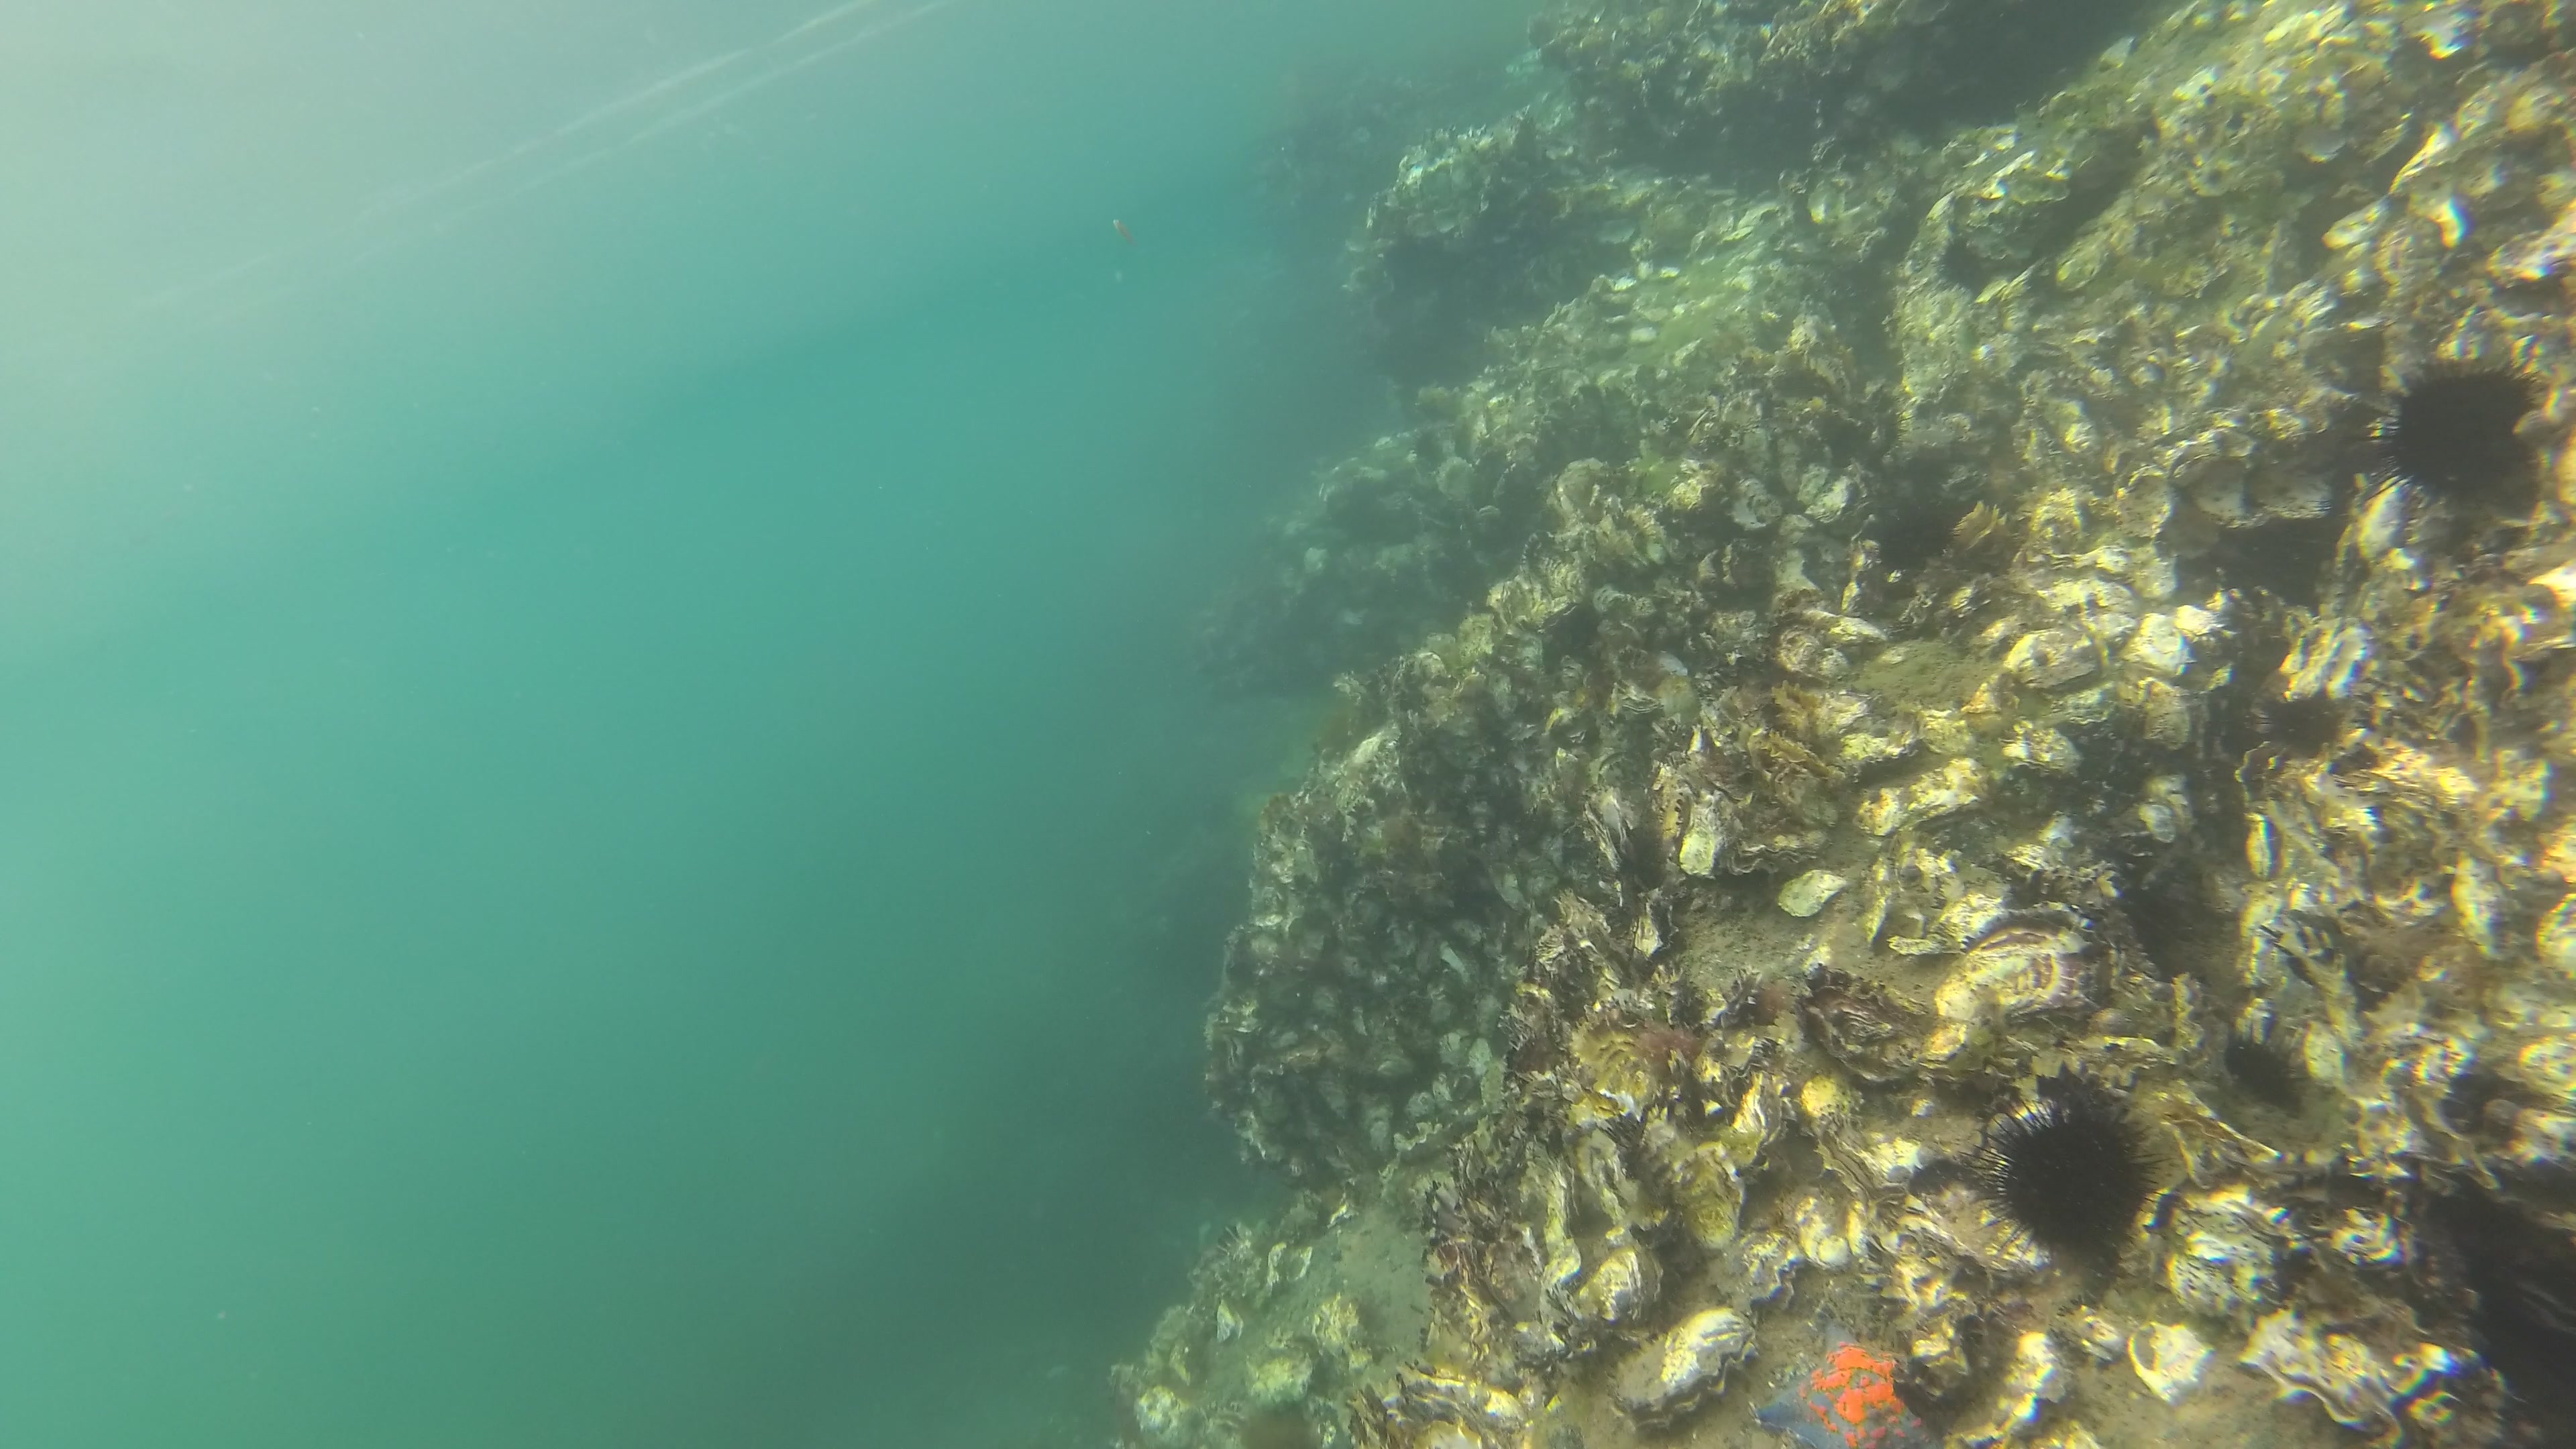echinus: (1982, 1102, 2169, 1267), (2373, 356, 2558, 511), (2224, 1021, 2307, 1115), (1872, 515, 1967, 566), (1934, 239, 1994, 294), (1868, 400, 1913, 460)
starfish: (1766, 1327, 1923, 1449)
